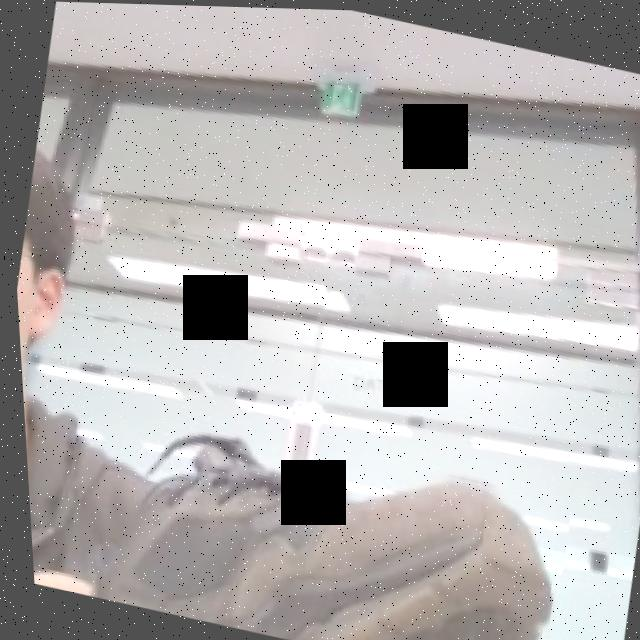shoe: (68, 395, 574, 640)
